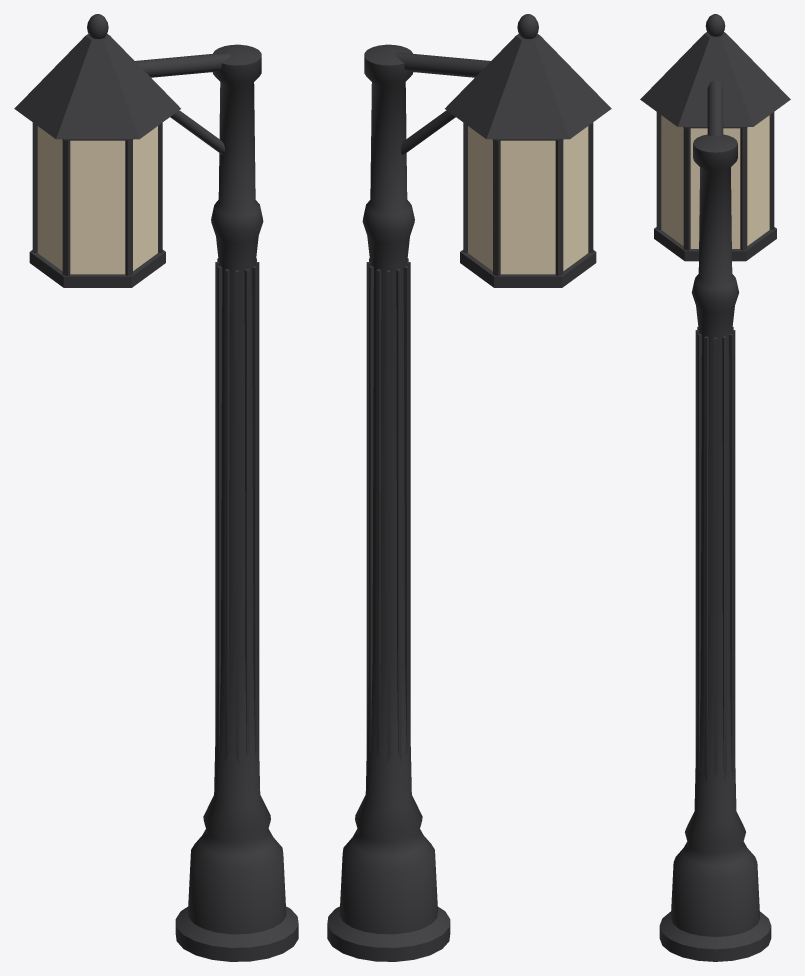
Rendered from lamp.glb.
3 renders of one model, left to right at view 1: azimuth 30°, elevation 25°; view 2: azimuth 150°, elevation 25°; view 3: azimuth 270°, elevation 25°, orthographic. The views are drawn at different scales.
Visible parts, largest first — view 1: post, glass, roof, flute7, flute9, flute6, flute10, ring_bottom, flute8, arm, flute11, flute5 (+5 smaller); view 2: post, glass, roof, flute5, flute3, flute6, flute2, ring_bottom, flute4, arm, flute1, flute7 (+5 smaller); view 3: post, roof, glass, flute0, flute1, flute11, flute2, flute10, ring_bottom, flute3, flute9, corner0 (+5 smaller).
Part boxes in pixels (box(x1,y1,x2,y2)): post: box(175, 44, 298, 961); glass: box(37, 126, 157, 274); roof: box(14, 33, 180, 139); flute7: box(224, 269, 229, 761); flute9: box(244, 269, 249, 758); flute6: box(217, 266, 222, 754); flute10: box(252, 266, 256, 758); ring_bottom: box(29, 250, 165, 287); flute8: box(235, 270, 238, 763); arm: box(135, 52, 230, 77); flute11: box(255, 262, 259, 745); flute5: box(215, 262, 218, 742); post: box(327, 44, 450, 961); glass: box(468, 126, 588, 274); roof: box(445, 33, 611, 139); flute5: box(396, 269, 401, 761); flute3: box(376, 269, 381, 758); flute6: box(403, 266, 408, 754); flute2: box(369, 266, 373, 758); ring_bottom: box(460, 250, 596, 287); flute4: box(387, 270, 390, 763); arm: box(395, 52, 490, 77); flute1: box(366, 262, 370, 745); flute7: box(407, 262, 410, 742); post: box(659, 134, 771, 961); roof: box(640, 32, 790, 126); glass: box(661, 115, 769, 248); flute0: box(713, 337, 717, 780); flute1: box(722, 336, 726, 781); flute11: box(704, 336, 708, 781); flute2: box(729, 333, 733, 778); flute10: box(697, 333, 701, 778); ring_bottom: box(654, 227, 776, 261); flute3: box(732, 330, 735, 765); flute9: box(695, 330, 698, 765); corner0: box(740, 128, 747, 250).
Bounding box in the file's own units: 0.9538 × 3.4 × 0.54.
